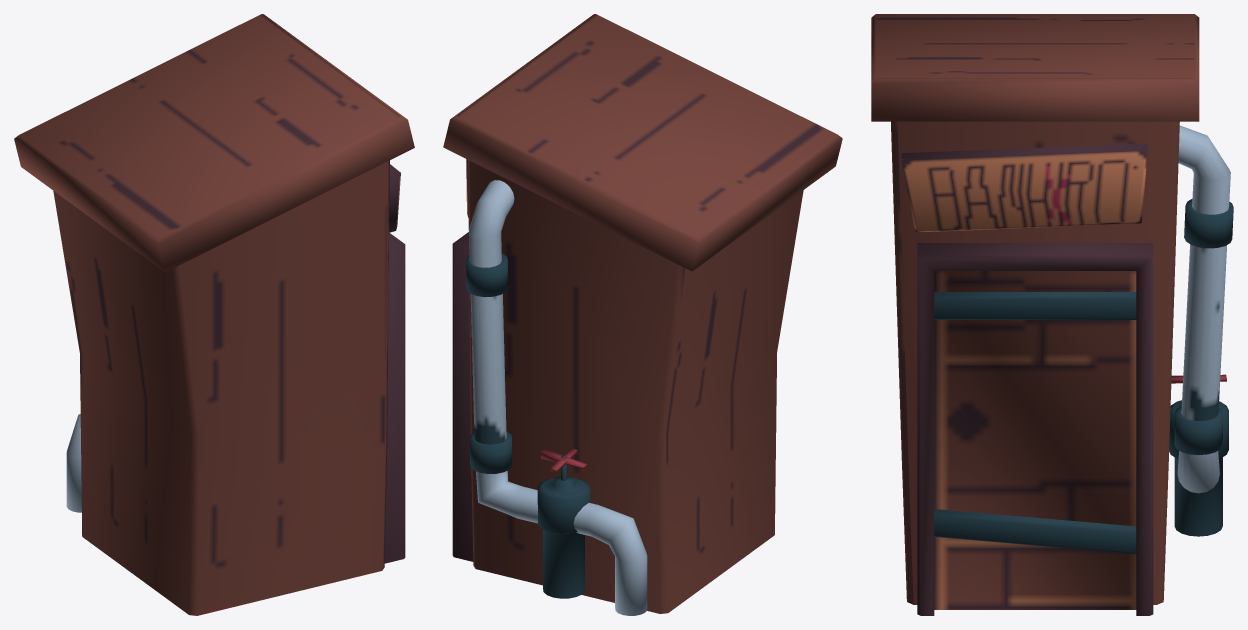
The model's file is Banheiro.fbx.
The picture shows the model from 3 angles, left to right: view 1: azimuth 30°, elevation 25°; view 2: azimuth 150°, elevation 25°; view 3: azimuth 270°, elevation 25°; orthographic projection. The views are drawn at different scales.
Visible parts, largest first — view 1: Banheiro; view 2: Banheiro; view 3: Banheiro.
Part boxes in pixels (bbox=[...]): Banheiro: bbox=[14, 14, 414, 615]; Banheiro: bbox=[443, 14, 842, 615]; Banheiro: bbox=[871, 14, 1233, 615].
Bounding box in the file's own units: 350 × 359 × 576.
